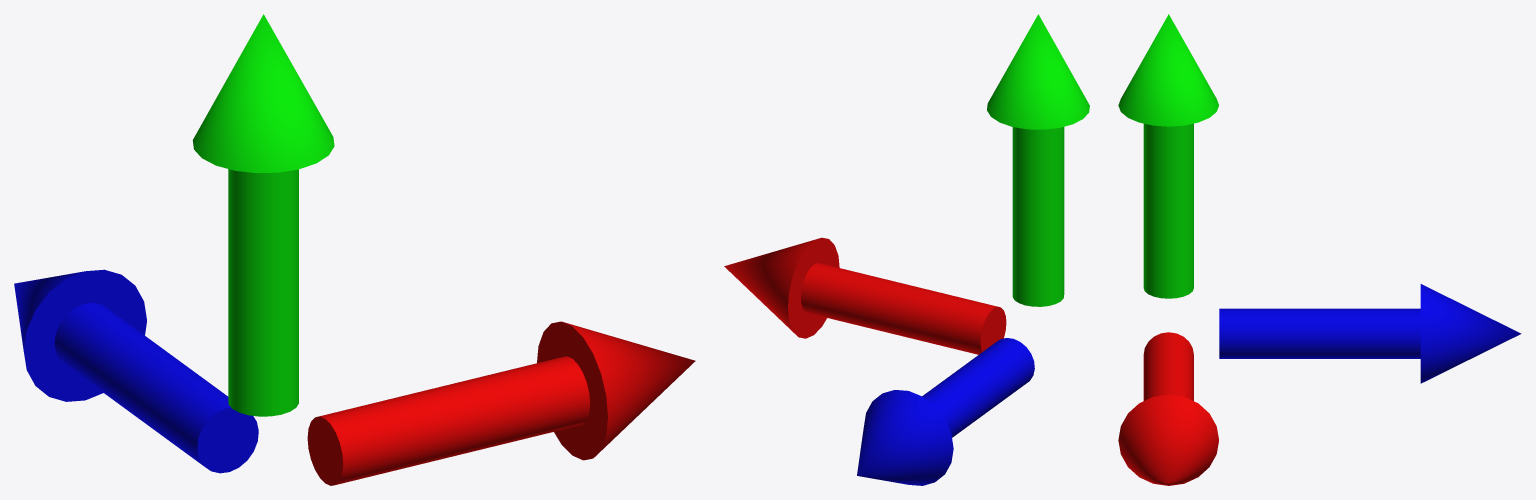
The model's file is Coordinate.fbx.
3 renders of one model, left to right at view 1: azimuth 30°, elevation 25°; view 2: azimuth 150°, elevation 25°; view 3: azimuth 270°, elevation 25°, orthographic. The views are drawn at different scales.
Parts seen in each view (by area): view 1: pCylinder2, pCylinder3, pCylinder1, pCone3, pCone2, pCone1, polySurface2; view 2: pCylinder2, pCylinder3, pCone1, pCone3, pCylinder1, pCone2, polySurface2; view 3: pCylinder1, pCylinder3, pCone2, pCone3, pCone1, pCylinder2.
Boxes of the visible parts, x1,y1,x2,y2 form: pCylinder2: (307,356,589,485); pCylinder3: (228,169,298,416); pCylinder1: (54,302,258,473); pCone3: (192,14,334,173); pCone2: (537,321,695,460); pCone1: (14,269,146,401); polySurface2: (24,270,607,459); pCylinder2: (801,263,1006,354); pCylinder3: (1012,127,1064,306); pCone1: (857,390,953,485); pCone3: (987,14,1089,129); pCylinder1: (922,338,1034,437); pCone2: (724,237,839,338); polySurface2: (788,238,839,338); pCylinder1: (1219,308,1420,358); pCylinder3: (1143,123,1193,298); pCone2: (1118,394,1218,485); pCone3: (1118,14,1218,126); pCone1: (1420,284,1521,383); pCylinder2: (1143,332,1193,400).
Size of the model in its own units: 8 by 8 by 8.
